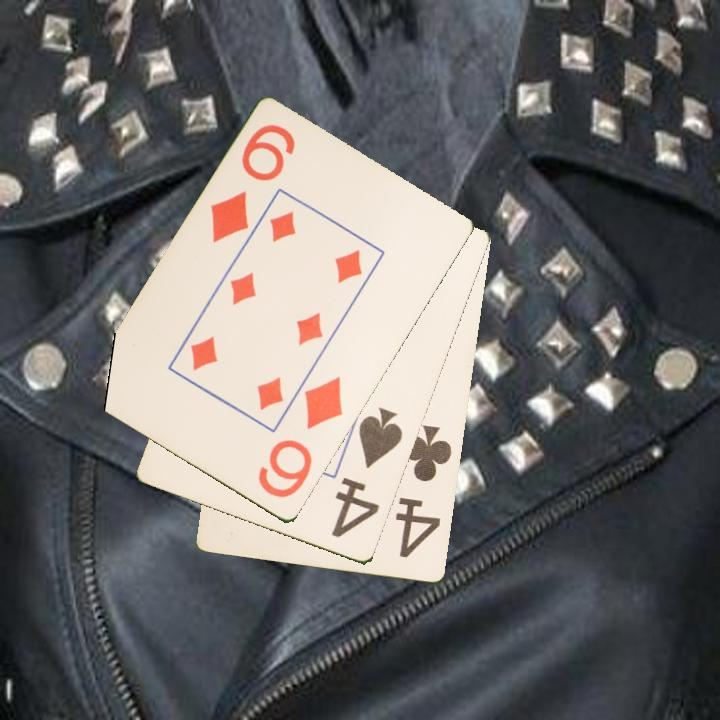4c: (392, 422, 455, 562)
4s: (328, 404, 406, 541)
6d: (254, 373, 347, 502), (206, 121, 299, 246)
